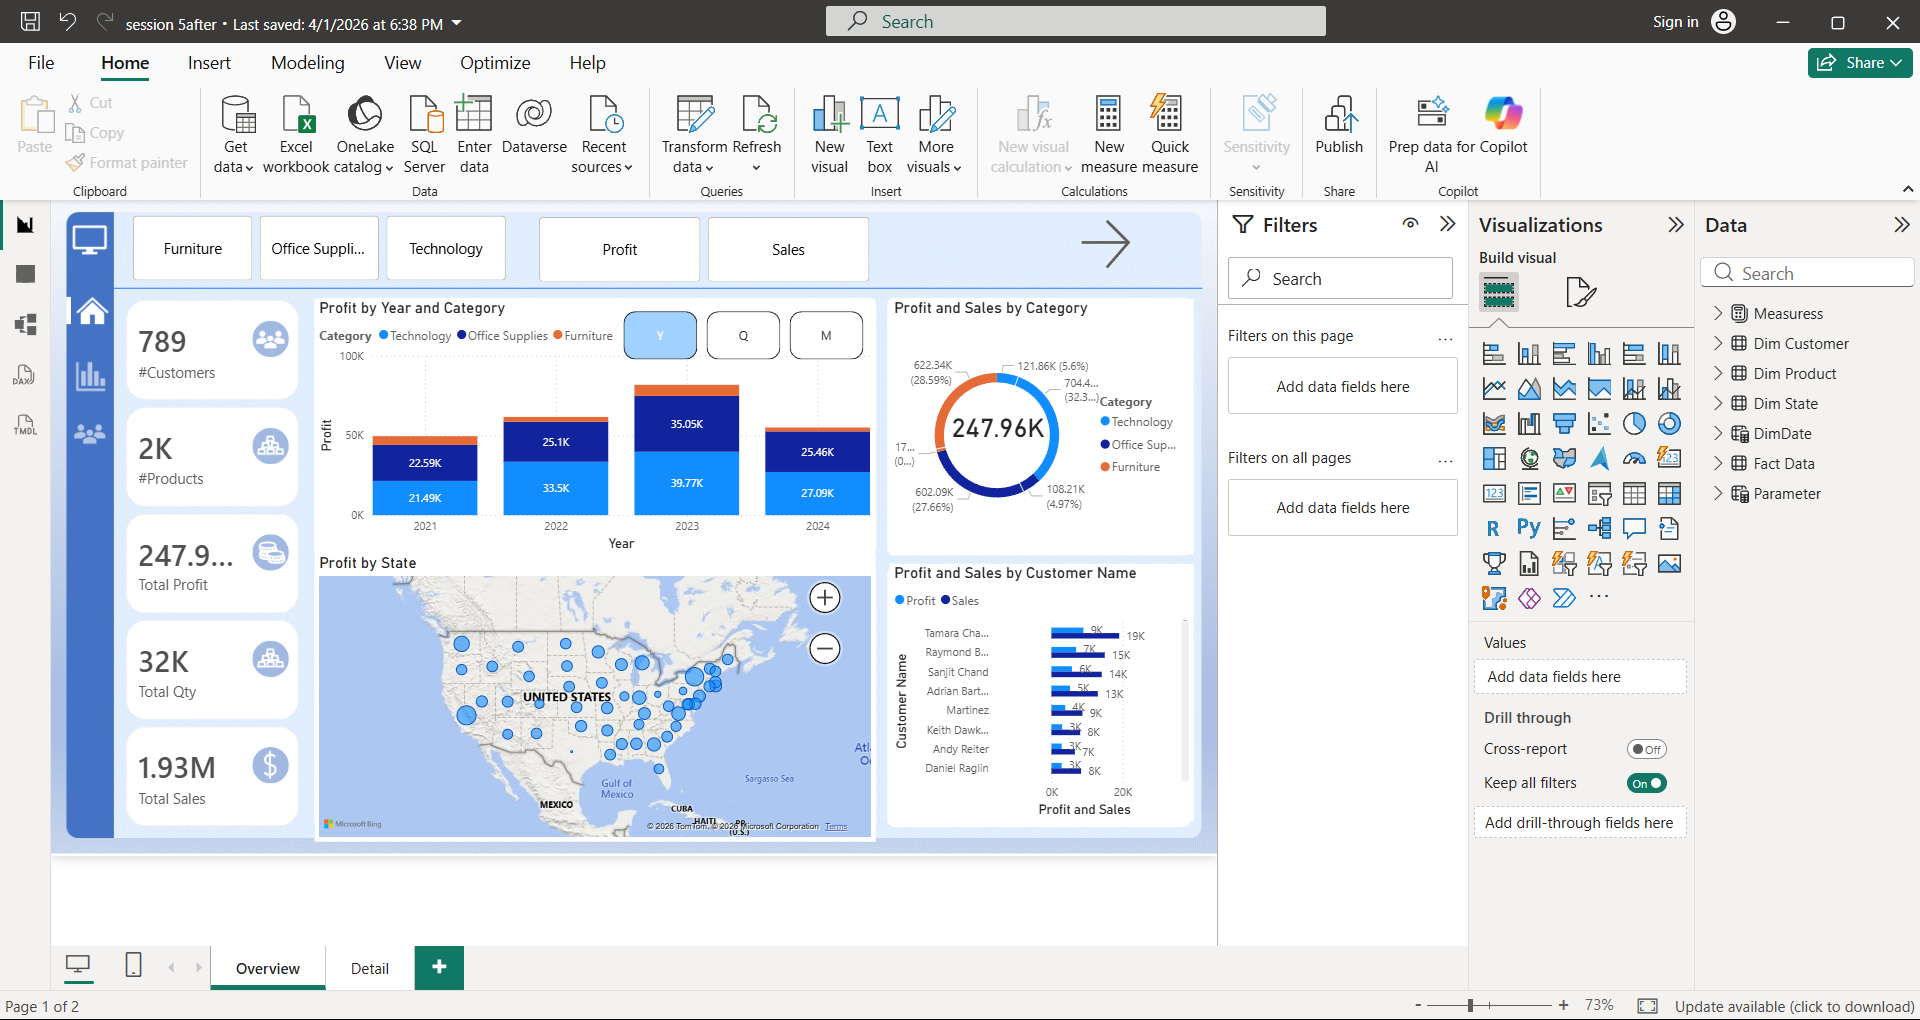

The dashboard page shown, as its layout file describes it:
{"tool":"powerbi","page":{"name":"Overview","canvas":[1280,720],"ordinal":0},"visuals":[{"type":"cardVisual","fields":{"Data":["Measuress.#Customers","Measuress.#Products","Measuress.Total Profit","Measuress.Total Qty","Measuress.Total Sales"]},"box":[65.9,93.3,223.7,612],"z":0},{"type":"columnChart","fields":{"Y":["Measuress.Total Profit"],"Series":["Dim Product.Category"],"Category":["DimDate.Year Hierarchy.Year","DimDate.Year Hierarchy.Qtr","DimDate.Year Hierarchy.Month"]},"box":[289.5,108.4,614.8,281.3],"z":1000},{"type":"advancedSlicerVisual","fields":{"Values":["Parameter.Parameter"]},"box":[531.7,13.3,373.3,81.7],"z":2000},{"type":"bookmarkNavigator","box":[628.3,121.7,263.3,53.3],"z":3000},{"type":"donutChart","fields":{"Y":["Measuress.Total Profit","Measuress.Total Sales"],"Category":["Dim Product.Category"]},"box":[920.9,108.9,333.6,280.9],"z":4000},{"type":"card","fields":{"Values":["Measuress.Total Profit"]},"box":[956.6,229.8,166.8,39.1],"z":5000},{"type":"clusteredBarChart","fields":{"Y":["Measuress.Total Profit","Measuress.Total Sales"],"Category":["Dim Customer.Customer Name"]},"box":[920.9,400,333.6,282.6],"z":6000},{"type":"map","fields":{"Size":["Measuress.Total Sales"],"Category":["Dim State.State"]},"box":[290,389,615,316],"z":7000},{"type":"advancedSlicerVisual","fields":{"Values":["Dim Product.Category"]},"box":[85,11.7,421.7,81.7],"z":8000},{"type":"actionButton","box":[1123.3,15,73.3,66.7],"z":9000}]}

Visuals, with their boxes on the page's 1280x720 design canvas (x1, y1, x2, y2). These are canvas units, not pixel positions in the 1920x1020 screenshot, which may show the page scaled, cropped or inside an application window:
cardVisual - Measuress.#Customers x Measuress.#Products: [66, 93, 290, 705]
columnChart - Measuress.Total Profit x Dim Product.Category: [290, 108, 904, 390]
advancedSlicerVisual - Parameter.Parameter: [532, 13, 905, 95]
bookmarkNavigator: [628, 122, 892, 175]
donutChart - Measuress.Total Profit x Measuress.Total Sales: [921, 109, 1254, 390]
card - Measuress.Total Profit: [957, 230, 1123, 269]
clusteredBarChart - Measuress.Total Profit x Measuress.Total Sales: [921, 400, 1254, 683]
map - Measuress.Total Sales x Dim State.State: [290, 389, 905, 705]
advancedSlicerVisual - Dim Product.Category: [85, 12, 507, 93]
actionButton: [1123, 15, 1197, 82]
